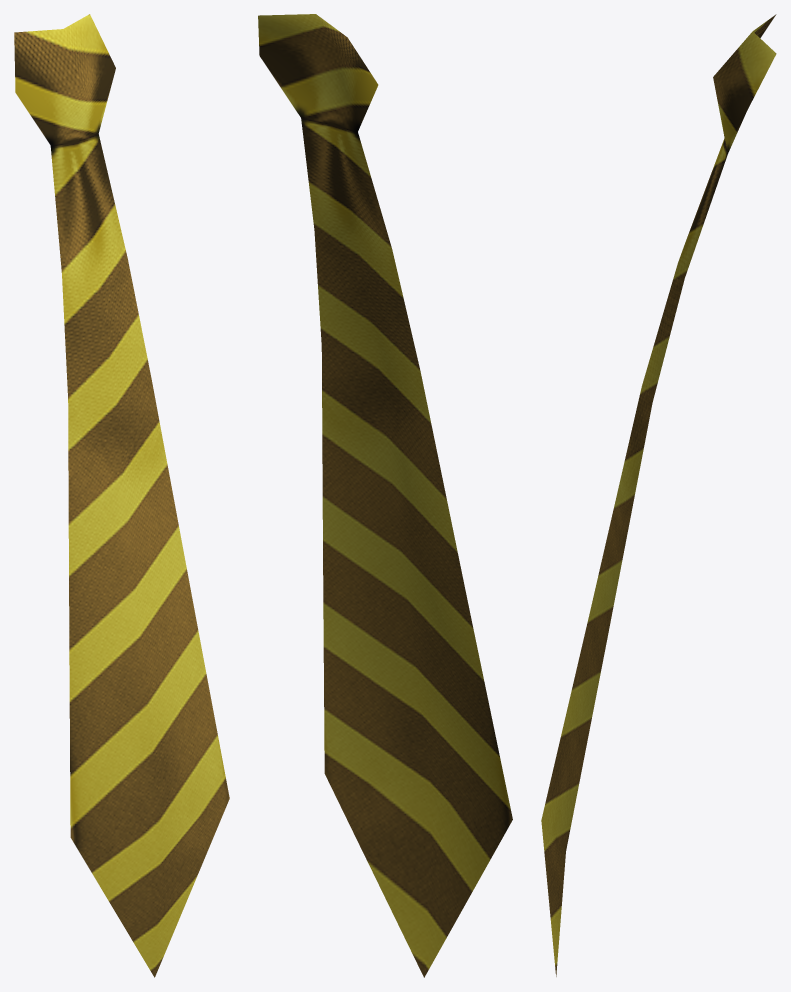
File: TPTieS.fbx
3 renders of one model, left to right at view 1: azimuth 30°, elevation 25°; view 2: azimuth 150°, elevation 25°; view 3: azimuth 270°, elevation 25°, orthographic. The views are drawn at different scales.
Parts seen in each view (by area): view 1: TPTieS; view 2: TPTieS; view 3: TPTieS.
Part boxes in pixels (x1=…): TPTieS: x1=14, y1=14, x2=229, y2=977; TPTieS: x1=258, y1=14, x2=512, y2=977; TPTieS: x1=541, y1=14, x2=776, y2=976.
Bounding box in the file's own units: 6.2 × 32.8 × 7.39.
Materials: 1 (1 with a texture image).
